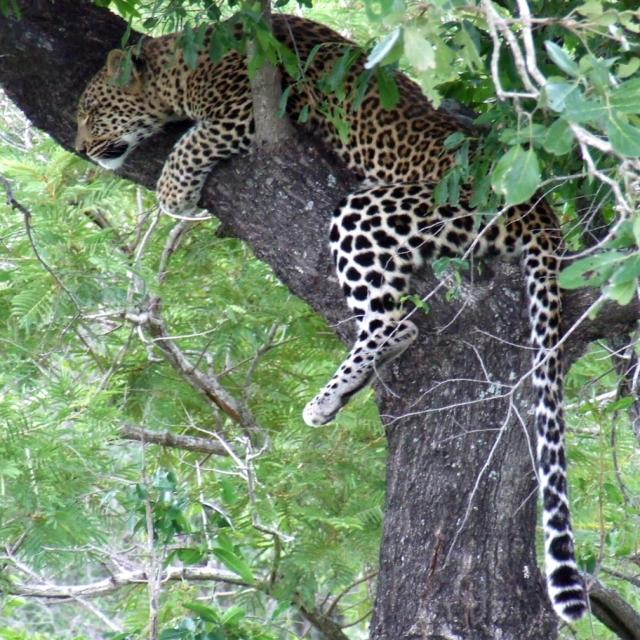Cheetah: (64, 7, 612, 627)
